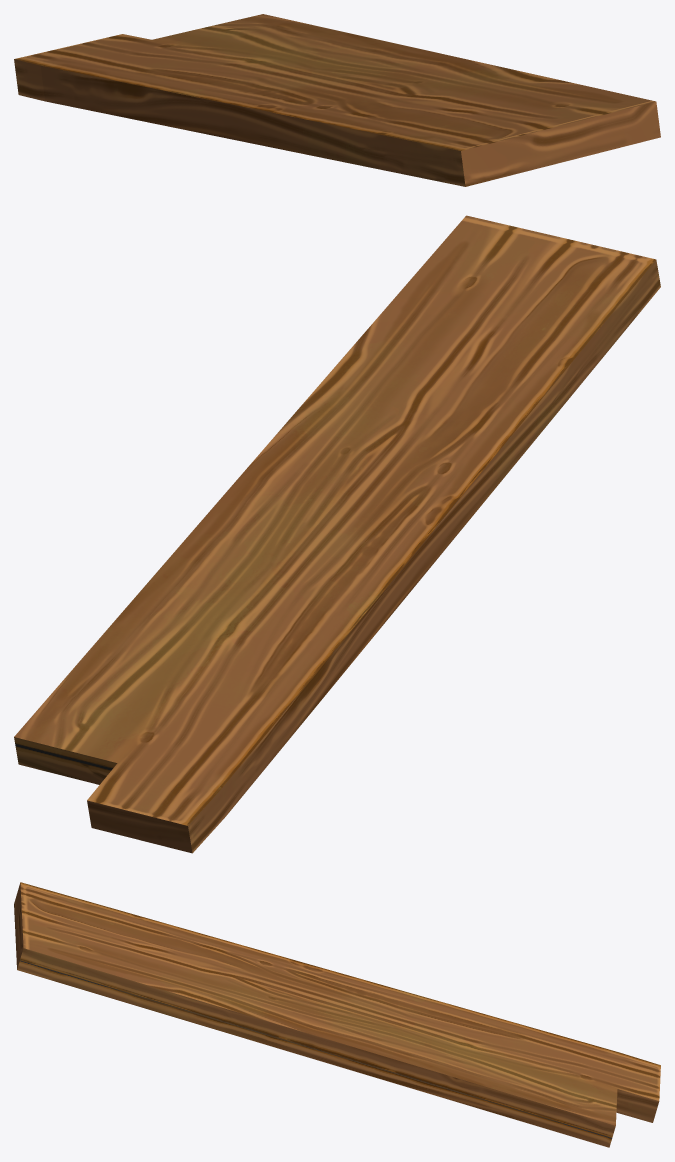
3 renders of one model, top to bottom at view 1: azimuth 30°, elevation 25°; view 2: azimuth 150°, elevation 25°; view 3: azimuth 270°, elevation 25°, orthographic. The views are drawn at different scales.
Parts seen in each view (by area): view 1: Cube.567; view 2: Cube.567; view 3: Cube.567.
Part boxes in pixels (x1,y1,x2,y2): Cube.567: (14, 14, 660, 186); Cube.567: (14, 215, 660, 853); Cube.567: (14, 882, 660, 1147).
Size of the model in its own units: 63.37 by 73.47 by 218.
1 material, 1 textured.
